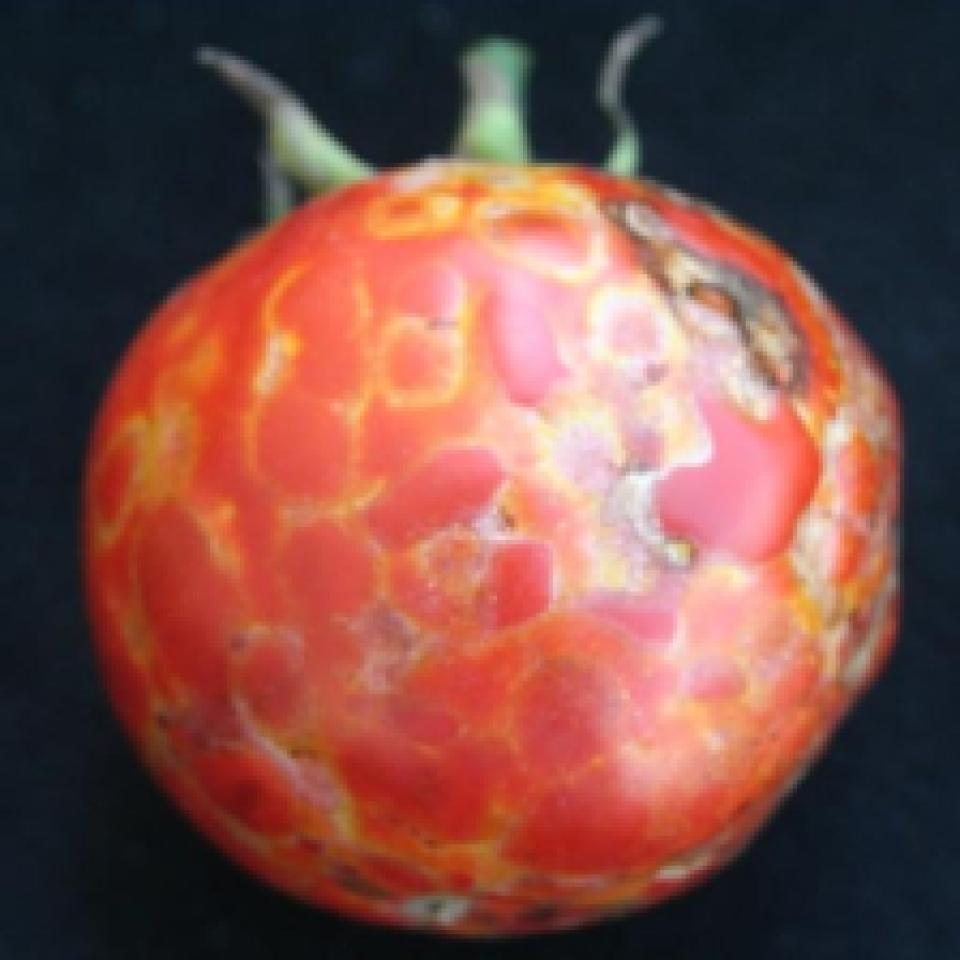Spotted wilt Virus: (86, 154, 901, 938)
